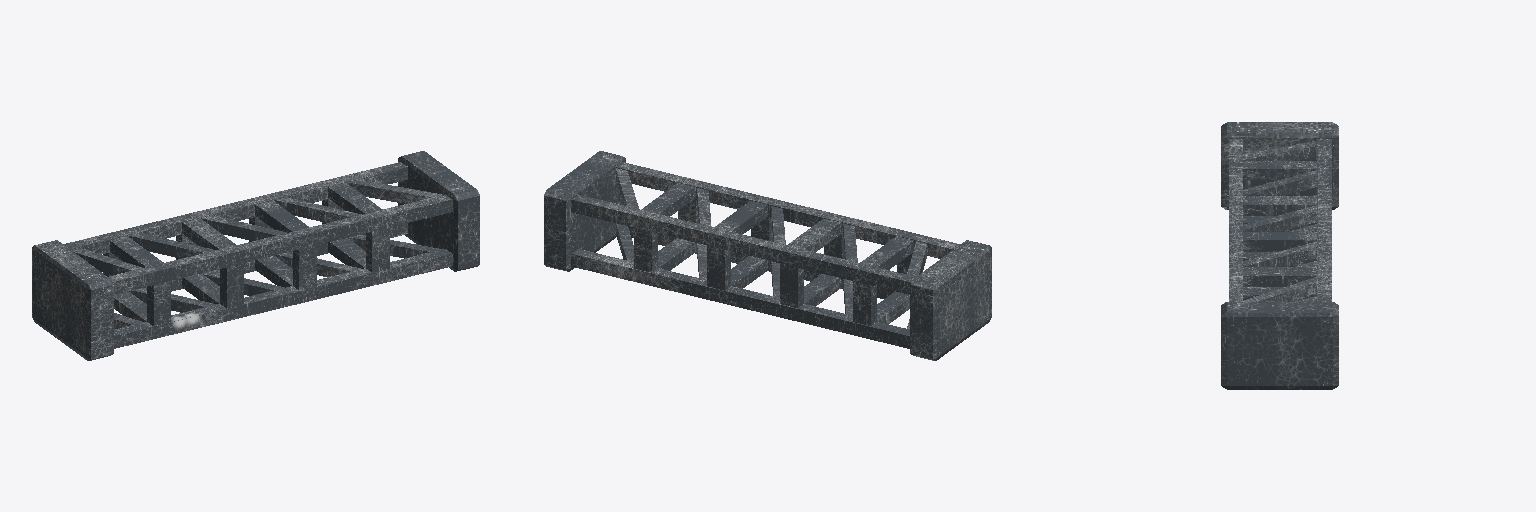
3 views of the same model, side by side, from view 1: azimuth 30°, elevation 25°; view 2: azimuth 150°, elevation 25°; view 3: azimuth 270°, elevation 25° (orthographic).
Visible parts, largest first — view 1: konstrukcja_Cube.080; view 2: konstrukcja_Cube.080; view 3: konstrukcja_Cube.080.
Part boxes in pixels (bbox=[...]): konstrukcja_Cube.080: bbox=[32, 151, 479, 360]; konstrukcja_Cube.080: bbox=[544, 151, 991, 360]; konstrukcja_Cube.080: bbox=[1221, 122, 1338, 389].
Bounding box in the file's own units: 7.84 × 1.48 × 2.06.
Materials: 1 (1 with a texture image).